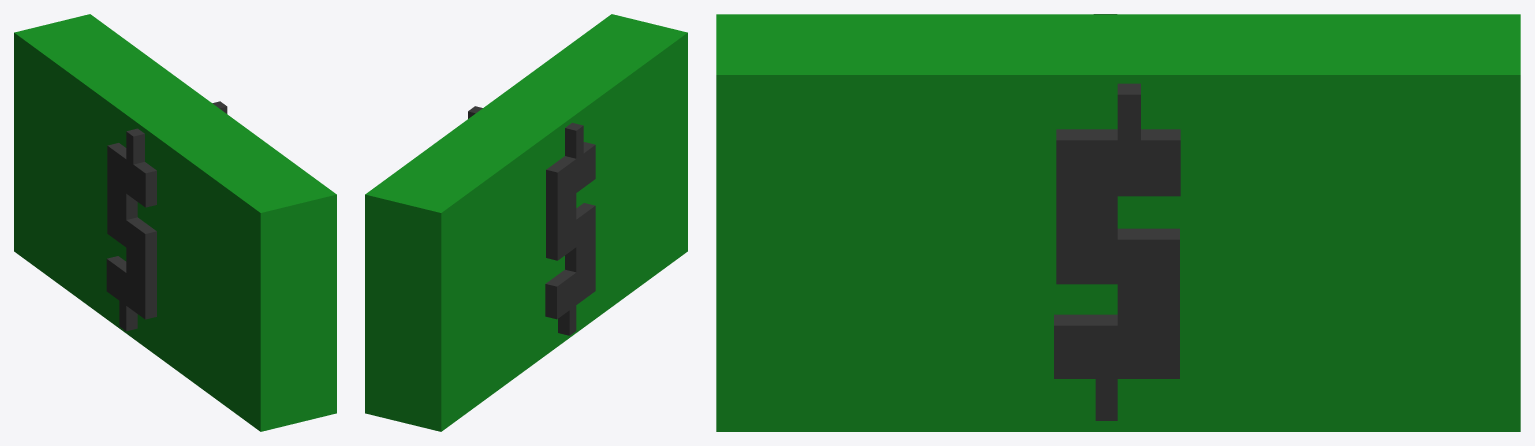
Rendered from dollar.fbx.
The picture shows the model from 3 angles, left to right: view 1: azimuth 30°, elevation 25°; view 2: azimuth 150°, elevation 25°; view 3: azimuth 270°, elevation 25°; orthographic projection. The views are drawn at different scales.
Visible parts, largest first — view 1: Cube, Cube.002; view 2: Cube, Cube.002; view 3: Cube, Cube.001.
Part boxes in pixels (x1=…): Cube: x1=14, y1=14, x2=336, y2=431; Cube.002: x1=106, y1=128, x2=156, y2=331; Cube: x1=365, y1=14, x2=687, y2=431; Cube.002: x1=545, y1=122, x2=595, y2=335; Cube: x1=716, y1=14, x2=1520, y2=431; Cube.001: x1=1054, y1=83, x2=1180, y2=420.
Size of the model in its own units: 103 by 212 by 433.
